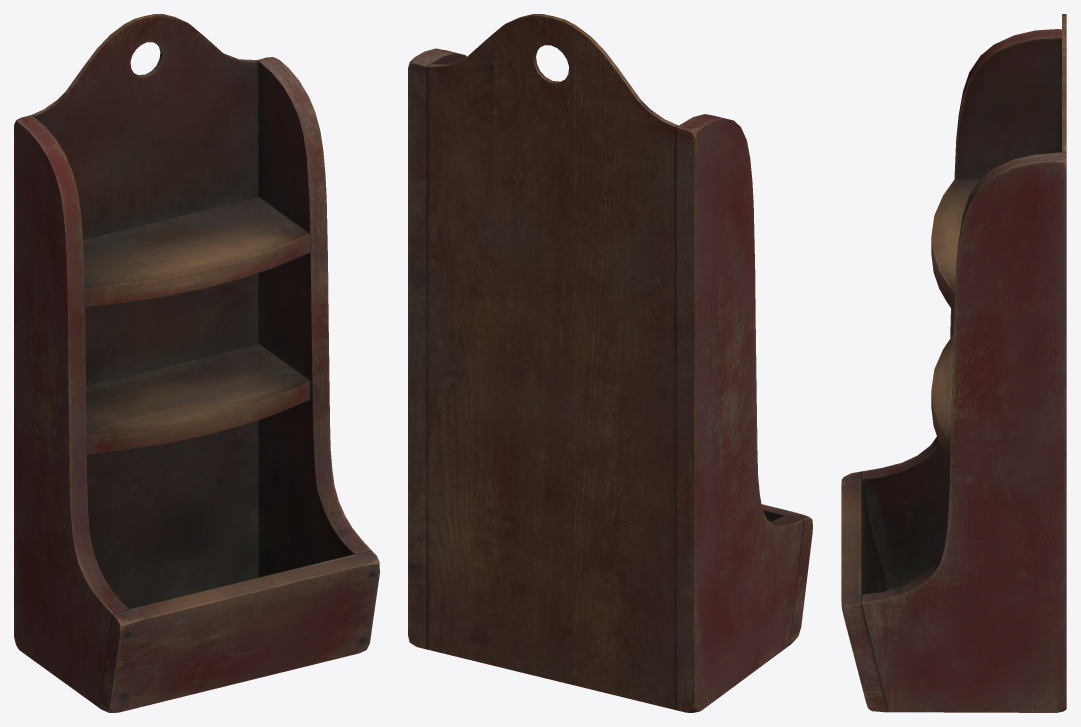
File: painted_wooden_shelves.2d24a50fdb.glb
3 views of the same model, side by side, from view 1: azimuth 30°, elevation 25°; view 2: azimuth 150°, elevation 25°; view 3: azimuth 270°, elevation 25° (orthographic). The views are drawn at different scales.
Visible parts, largest first — view 1: painted_wooden_shelves; view 2: painted_wooden_shelves; view 3: painted_wooden_shelves.
Part boxes in pixels (left/top/right/bottom): painted_wooden_shelves: left=14, top=14, right=379, bottom=712; painted_wooden_shelves: left=408, top=14, right=812, bottom=712; painted_wooden_shelves: left=841, top=14, right=1066, bottom=712.
Size of the model in its own units: 0.5111 by 1.13 by 0.3671.
1 material, 1 textured.
